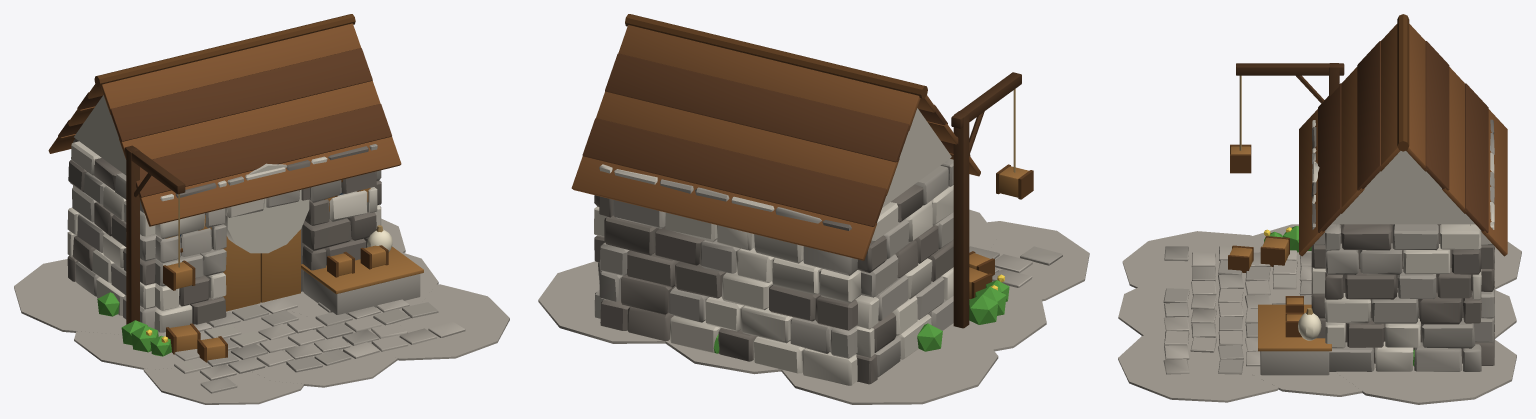
File: magazyn_poz13.glb
The picture shows the model from 3 angles, left to right: view 1: azimuth 30°, elevation 25°; view 2: azimuth 150°, elevation 25°; view 3: azimuth 270°, elevation 25°; orthographic projection. The views are drawn at different scales.
Parts seen in each view (by area): view 1: magazyn_poz13; view 2: magazyn_poz13; view 3: magazyn_poz13.
Part boxes in pixels (x1=…): magazyn_poz13: x1=14, y1=14, x2=509, y2=404; magazyn_poz13: x1=538, y1=14, x2=1089, y2=404; magazyn_poz13: x1=1118, y1=14, x2=1521, y2=404.
Bounding box in the file's own units: 8.83 × 5.45 × 8.2.
